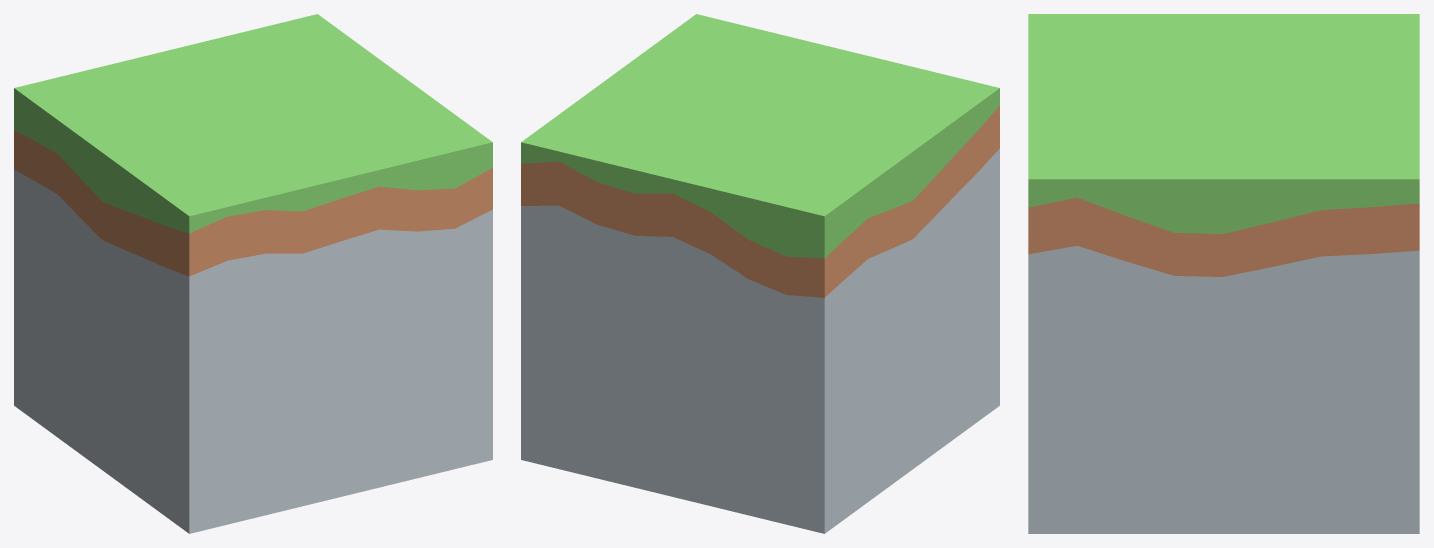
File: HardShipCube.gltf
The picture shows the model from 3 angles, left to right: view 1: azimuth 30°, elevation 25°; view 2: azimuth 150°, elevation 25°; view 3: azimuth 270°, elevation 25°; orthographic projection. The views are drawn at different scales.
Parts seen in each view (by area): view 1: Cube; view 2: Cube; view 3: Cube.
Part boxes in pixels (left/top/right/bottom): Cube: left=14, top=14, right=492, bottom=533; Cube: left=521, top=14, right=999, bottom=533; Cube: left=1028, top=14, right=1419, bottom=533.
Size of the model in its own units: 2 by 2 by 2.
